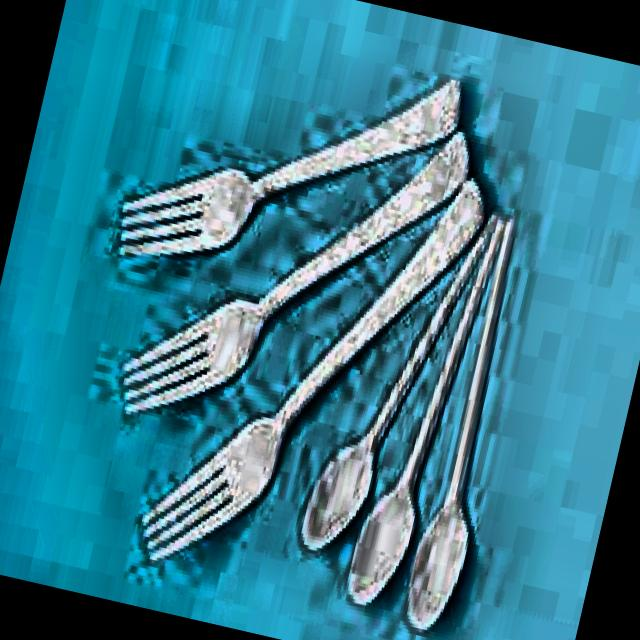plastic utensil: (144, 184, 484, 560), (125, 134, 468, 412), (348, 221, 504, 604), (120, 83, 459, 255), (301, 257, 474, 549), (408, 218, 512, 630)
